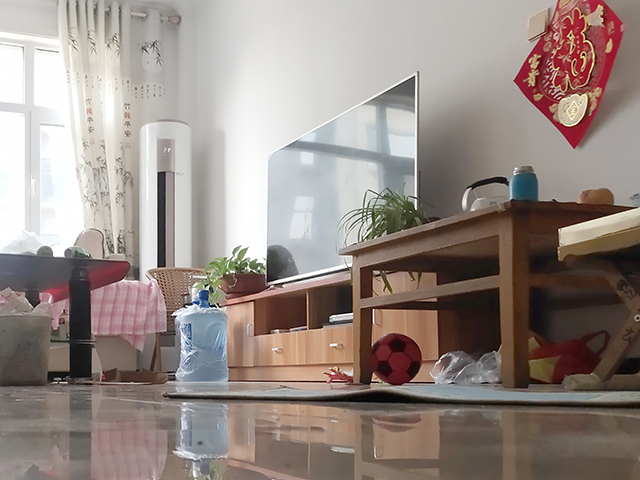cabinet: (216, 264, 349, 386)
carpet: (160, 384, 640, 409)
curtain: (57, 2, 133, 253)
stool: (554, 222, 640, 394)
table: (336, 201, 562, 390), (1, 252, 132, 387)
trashcan: (1, 313, 57, 388)
